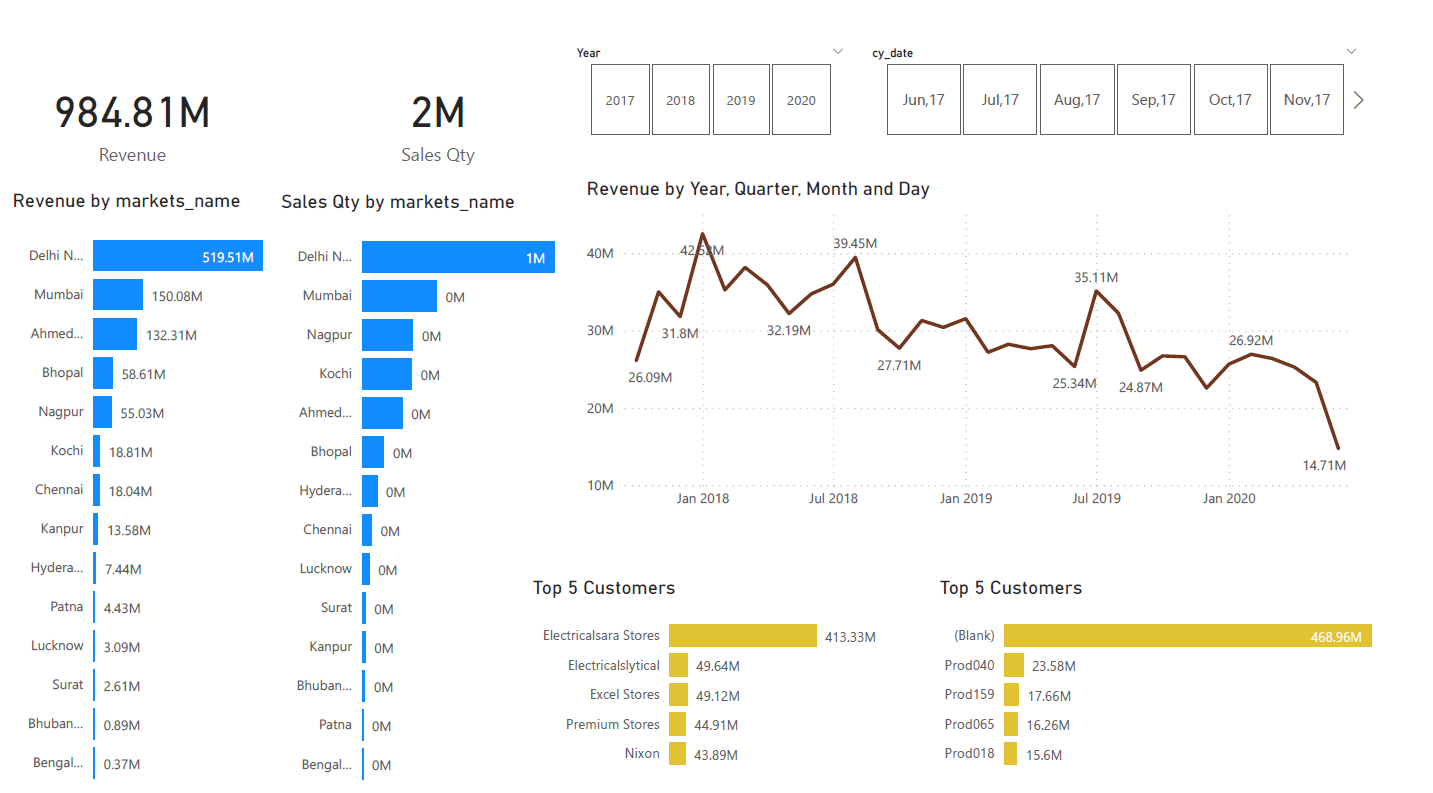

The dashboard page shown, as its layout file describes it:
{"tool":"powerbi","page":{"name":"Page 1","canvas":[1280,720],"ordinal":0},"visuals":[{"type":"card","fields":{"Values":["BaseMeasures (2).Revenue"]},"box":[0,0,255.2,227.8],"z":0},{"type":"card","fields":{"Values":["BaseMeasures (2).Sales Qty"]},"box":[271.7,0,255.2,227.8],"z":1000},{"type":"textbox","box":[526.9,42.5,223.7,112.5],"z":2000},{"type":"barChart","fields":{"Y":["BaseMeasures (2).Revenue"],"Category":["sales markets.markets_name"]},"box":[16.5,175,255.2,544],"z":3000},{"type":"barChart","fields":{"Y":["BaseMeasures (2).Sales Qty"],"Category":["sales markets.markets_name"]},"box":[255.2,175.6,255.2,544.8],"z":4000},{"type":"slicer","fields":{"Values":["sales date.date.Variation.Date Hierarchy.Year"]},"box":[471,23,263,91],"z":5000},{"type":"slicer","fields":{"Values":["sales date.cy_date"]},"box":[734,23,457,91],"z":6000},{"type":"barChart","title":"Top 5 Customers","fields":{"Y":["BaseMeasures (2).Revenue"],"Category":["sales customers.custmer_name"]},"box":[478.9,520.1,321.1,183.9],"z":7000},{"type":"barChart","title":"Top 5 Customers ","fields":{"Y":["BaseMeasures (2).Revenue"],"Category":["sales products.product_code"]},"box":[841.2,520.1,415.8,183.9],"z":8000},{"type":"lineChart","fields":{"Y":["BaseMeasures (2).Revenue"],"Category":["sales date.cy_date.Variation.Date Hierarchy.Year","sales date.cy_date.Variation.Date Hierarchy.Quarter","sales date.cy_date.Variation.Date Hierarchy.Month","sales date.cy_date.Variation.Date Hierarchy.Day"]},"box":[526.9,164.7,702.6,304.6],"z":9000}]}

Visuals, with their boxes in screenshot pixels (x1, y1, x2, y2), scaled from the page's 1280x720 canvas onto the 1433x793 screenshot:
card - BaseMeasures (2).Revenue: x1=0 y1=0 x2=286 y2=251
card - BaseMeasures (2).Sales Qty: x1=304 y1=0 x2=590 y2=251
textbox: x1=590 y1=47 x2=840 y2=171
barChart - BaseMeasures (2).Revenue x sales markets.markets_name: x1=18 y1=193 x2=304 y2=792
barChart - BaseMeasures (2).Sales Qty x sales markets.markets_name: x1=286 y1=193 x2=571 y2=792
slicer - sales date.date.Variation.Date Hierarchy.Year: x1=527 y1=25 x2=822 y2=126
slicer - sales date.cy_date: x1=822 y1=25 x2=1333 y2=126
"Top 5 Customers" barChart: x1=536 y1=573 x2=896 y2=775
"Top 5 Customers " barChart: x1=942 y1=573 x2=1407 y2=775
lineChart - BaseMeasures (2).Revenue x sales date.cy_date.Variation.Date Hierarchy.Year: x1=590 y1=181 x2=1376 y2=517
